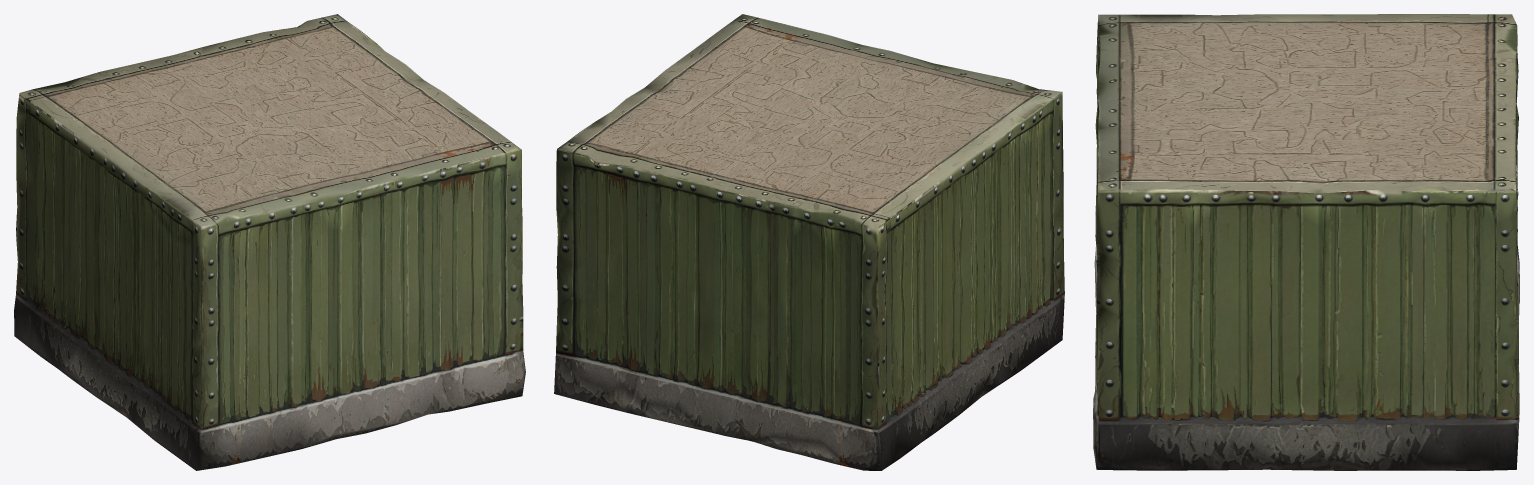
Rendered from EX_Mil_Wall.fbx.
The picture shows the model from 3 angles, left to right: view 1: azimuth 30°, elevation 25°; view 2: azimuth 150°, elevation 25°; view 3: azimuth 270°, elevation 25°; orthographic projection. The views are drawn at different scales.
Visible parts, largest first — view 1: texture_mapping; view 2: texture_mapping; view 3: texture_mapping.
Boxes of the visible parts, x1,y1,x2,y2 form: texture_mapping: (14, 14, 525, 470); texture_mapping: (554, 14, 1064, 470); texture_mapping: (1093, 14, 1519, 470).
Size of the model in its own units: 1 by 0.9956 by 0.7288.
Materials: 1 (1 with a texture image).
